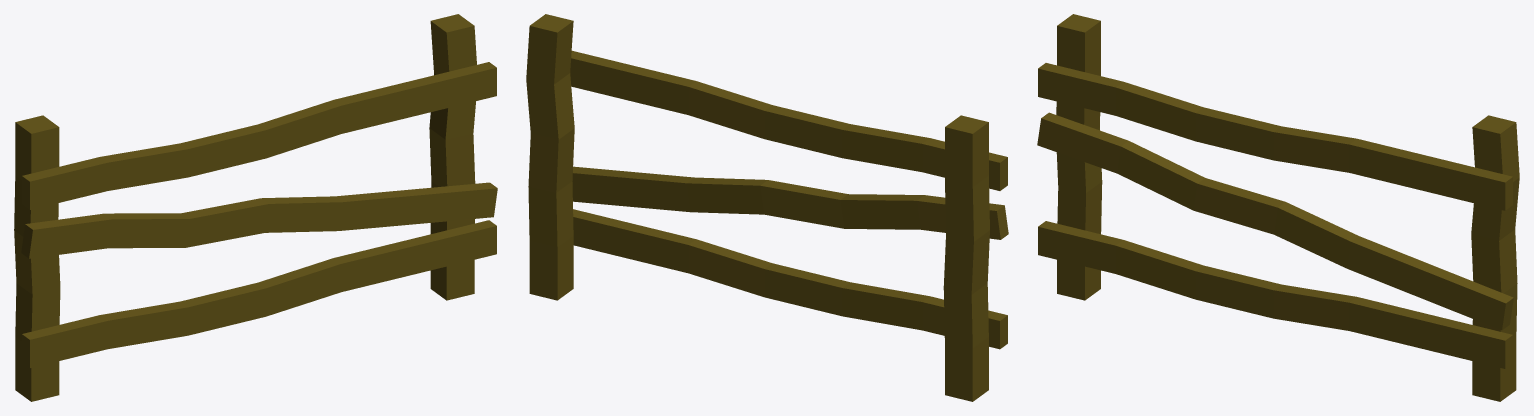
3 views of the same model, side by side, from view 1: azimuth 30°, elevation 25°; view 2: azimuth 150°, elevation 25°; view 3: azimuth 330°, elevation 25° (orthographic).
Visible parts, largest first — view 1: Fence 2; view 2: Fence 2; view 3: Fence 2.
Boxes of the visible parts, left/top/right/bottom form: Fence 2: left=14, top=14, right=497, bottom=401; Fence 2: left=526, top=14, right=1008, bottom=401; Fence 2: left=1037, top=14, right=1519, bottom=401.
Size of what is drawn, in the model's own units: 638 by 349 by 59.82.
1 material, 1 textured.
